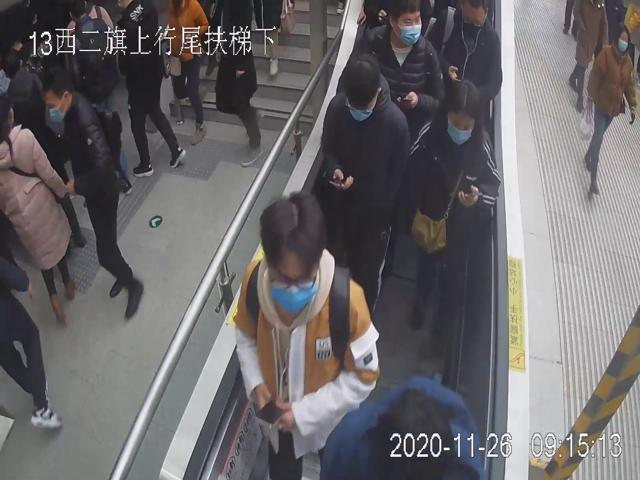person: (233, 188, 378, 480), (403, 75, 499, 356), (40, 64, 145, 320), (321, 54, 409, 299), (358, 0, 448, 140), (581, 19, 639, 200)
